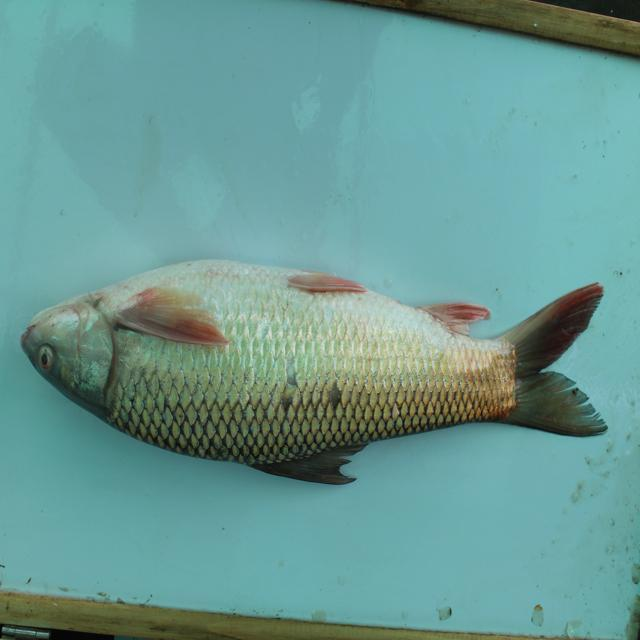Mori: (19, 243, 617, 488)
